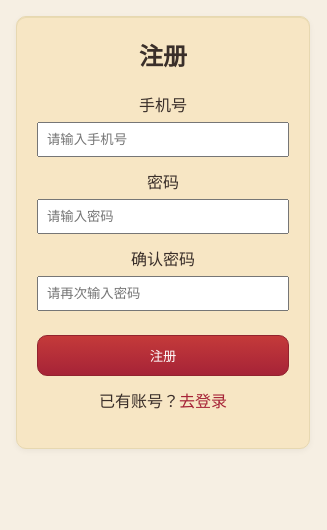
Test: Register page › shows error message when register fails
This screenshot has width=327, height=530.
Type "13800000000" into the field with placeholder "请输入手机号" at point(163, 139), box [37,122,289,157]
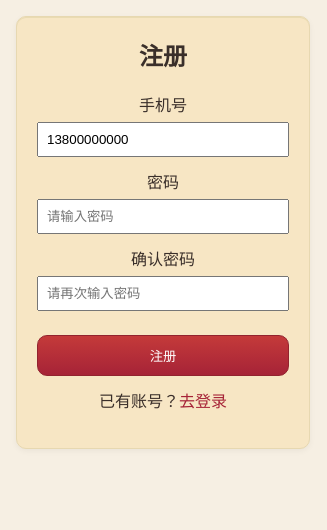
Type "password123" into the password field with placeholder "请输入密码" at point(163, 216), box [37,199,289,234]
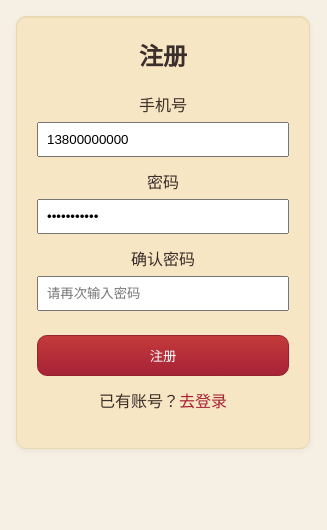
Type "password123" into the password field with placeholder "请再次输入密码" at point(163, 293), box [37,276,289,311]
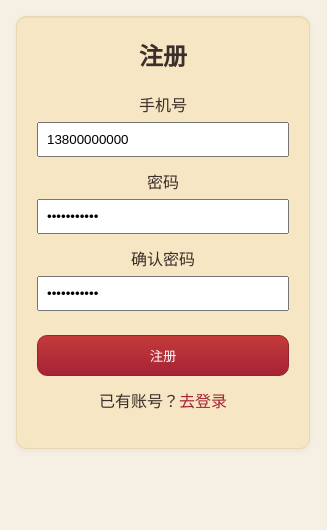
Click the button "注册" at point(163, 355), box [37,335,289,376]
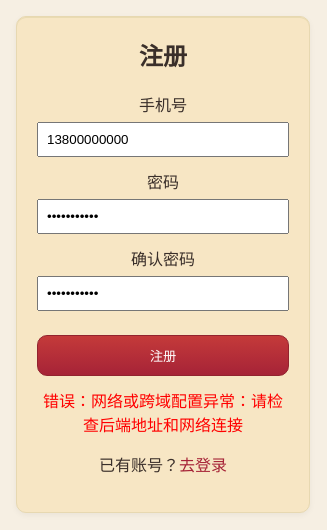
Check: the text "错误：网络或跨域配置异常：请检查后端地址和网络连接" is shown, box [37,388,289,436]
